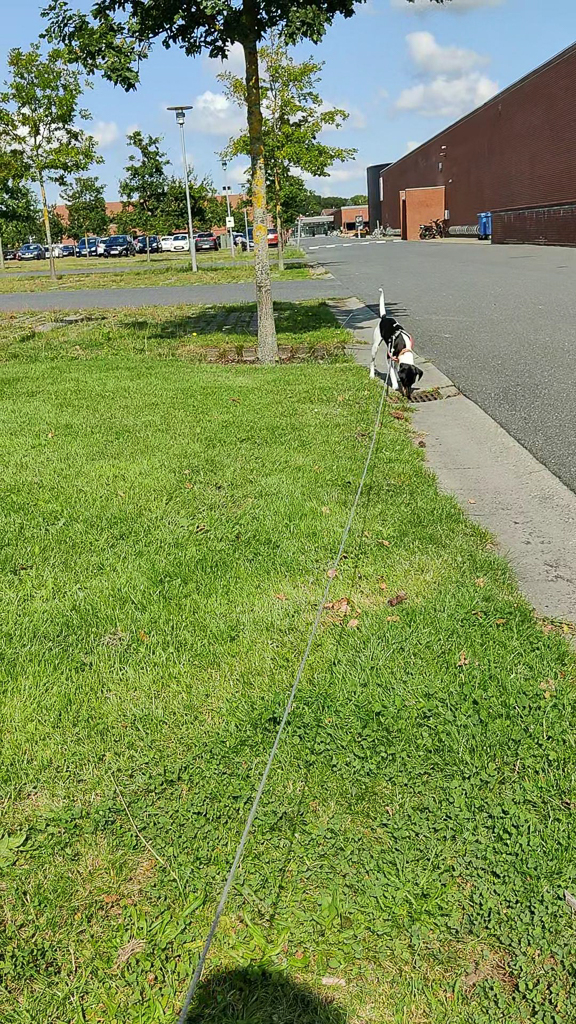Dog: (356, 279, 433, 406)
